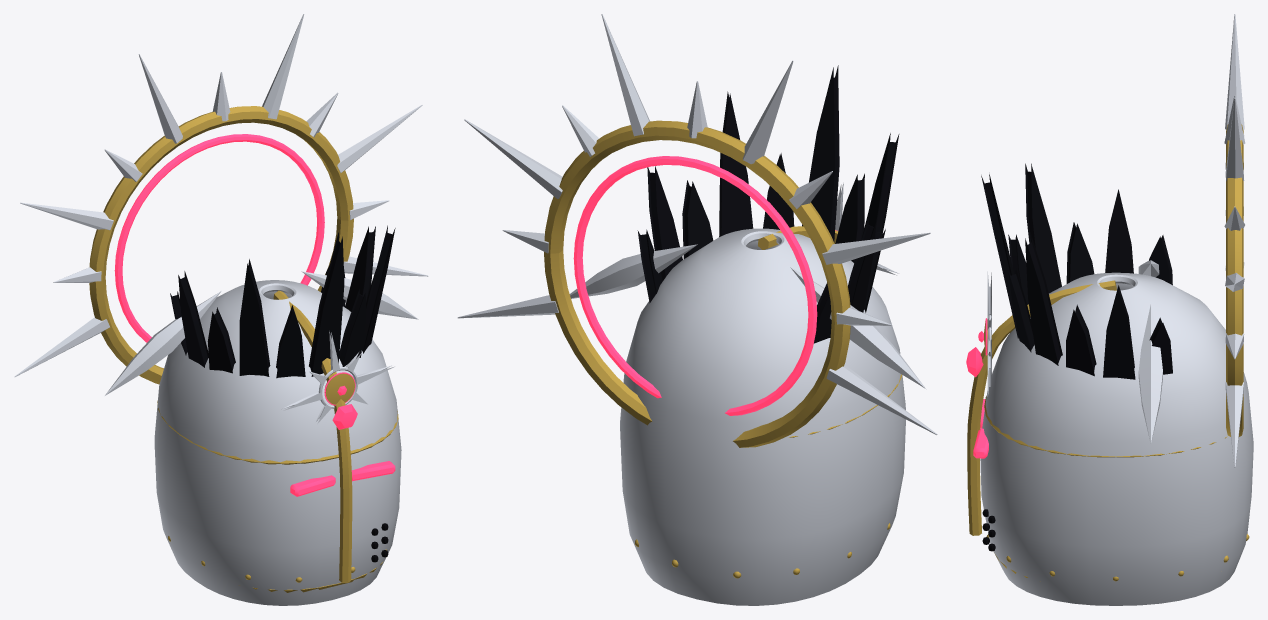
File: esc_worldsend_bulwark_helm.glb
The picture shows the model from 3 angles, left to right: view 1: azimuth 30°, elevation 25°; view 2: azimuth 150°, elevation 25°; view 3: azimuth 270°, elevation 25°; orthographic projection. The views are drawn at different scales.
Visible parts, largest first — view 1: esc_worldsend_bulwark_helm; view 2: esc_worldsend_bulwark_helm; view 3: esc_worldsend_bulwark_helm.
Part boxes in pixels (box(x1,y1,x2,y2)): esc_worldsend_bulwark_helm: box(14, 14, 428, 605); esc_worldsend_bulwark_helm: box(457, 14, 937, 605); esc_worldsend_bulwark_helm: box(966, 14, 1253, 605).
Bounding box in the file's own units: 0.7147 × 0.8015 × 0.4109.
